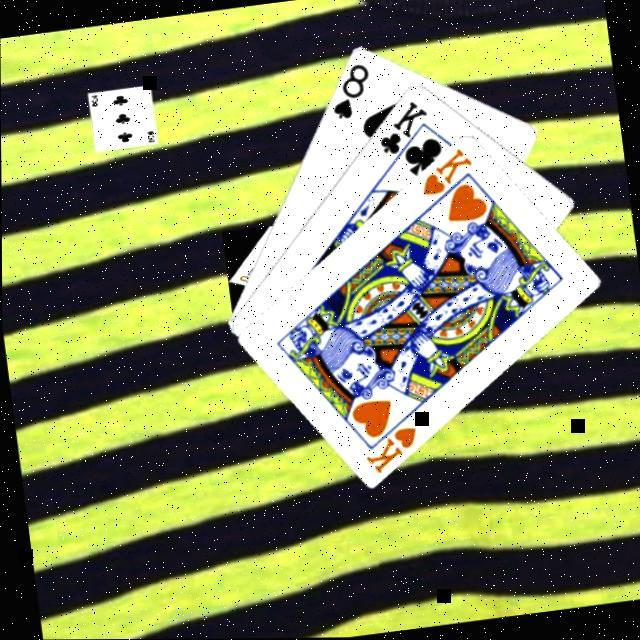8S: (321, 56, 375, 121)
KC: (370, 94, 434, 168)
KH: (412, 141, 476, 198), (356, 420, 421, 475)
